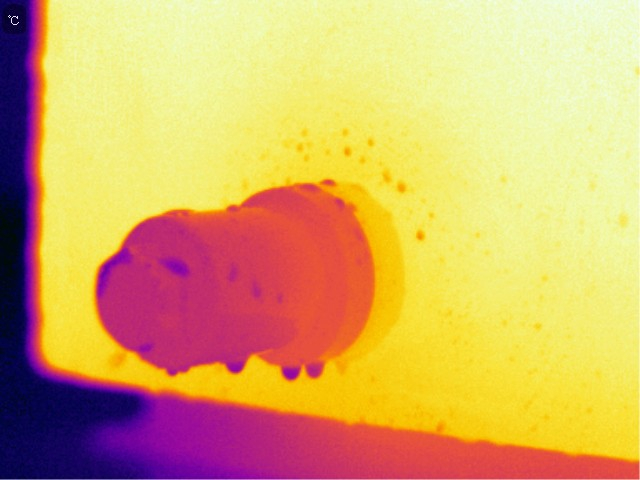Water: (157, 254, 190, 281), (220, 352, 250, 376), (304, 356, 327, 382), (278, 359, 302, 383), (163, 365, 192, 380), (222, 261, 239, 286), (222, 199, 244, 218), (426, 415, 449, 433), (248, 281, 262, 304), (137, 339, 156, 355), (299, 179, 319, 194), (413, 228, 429, 243), (396, 180, 411, 195), (330, 196, 346, 210), (273, 288, 285, 306), (382, 170, 396, 185), (336, 123, 351, 137), (298, 124, 314, 137), (364, 136, 377, 151), (497, 172, 508, 189), (319, 177, 337, 187), (300, 154, 315, 165), (339, 144, 353, 155), (531, 319, 545, 330), (293, 142, 303, 152)
